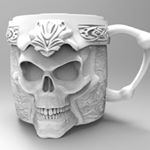cups: (2, 11, 150, 137)
